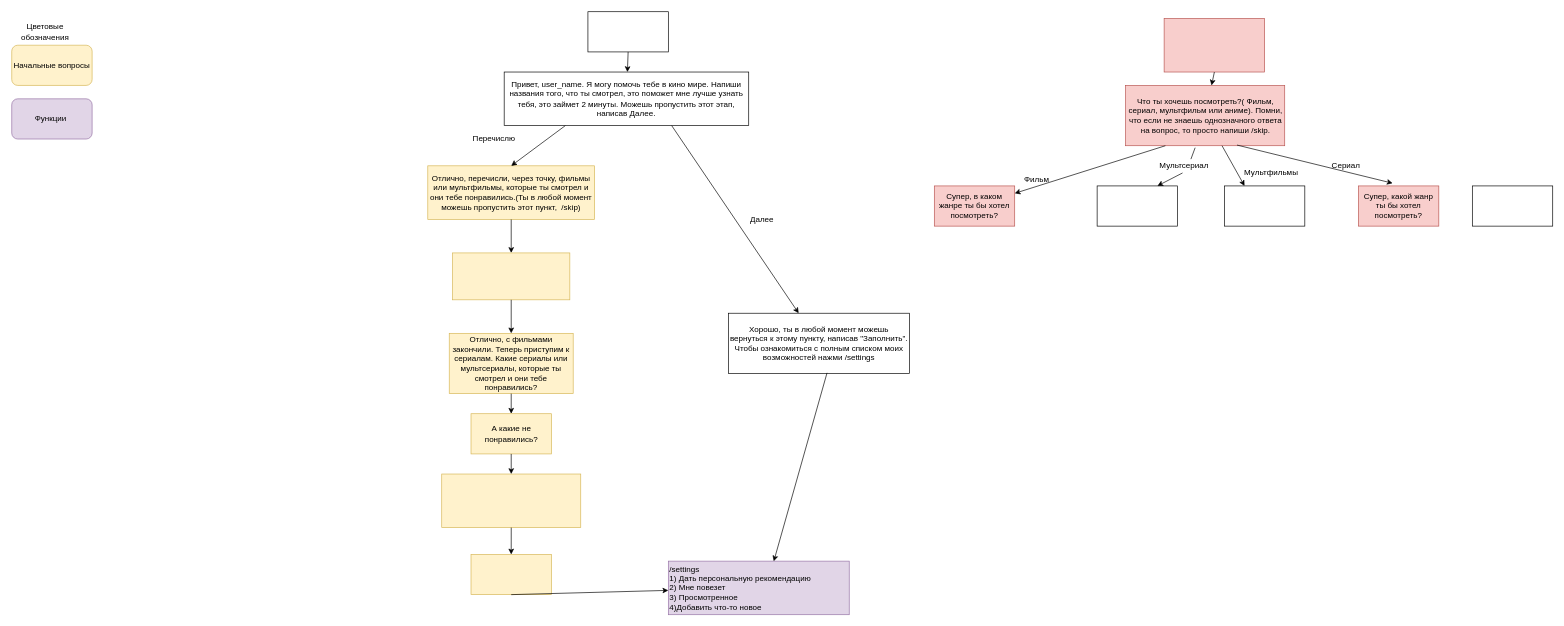
Some shapes in this 1564 by 626 pixel diagram are drawn without their labels. The centre of each missing label's shape, as x and y in pixels:
"/start" goes at (x=627, y=31).
"Дать персональную рекомендацию" goes at (x=1214, y=45).
"Может ты смотрел аниме? Если да, то напиши, что тебе больше всего понравилось?" goes at (x=511, y=500).
"Мы почти на финише, а какие аниме тебе не понравились?" goes at (x=510, y=574).
"Теперь напиши, какие фильмы или мультфильмы не понравилсь тебе не понравились." goes at (x=511, y=276).
